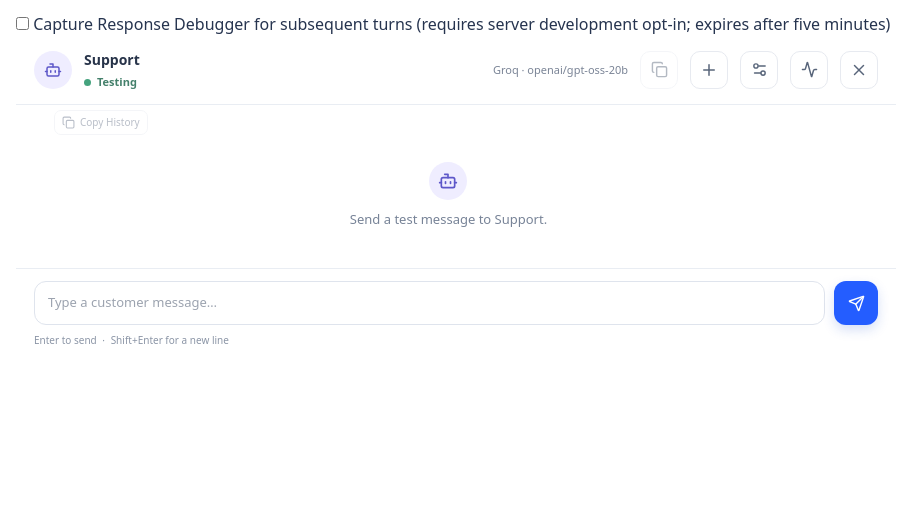
PlaygroundChat › renders trusted AI_GENERATED response provenance
Type "Please help" into the text box named "Message your assistant" at (430, 303), box [34,281,825,325]
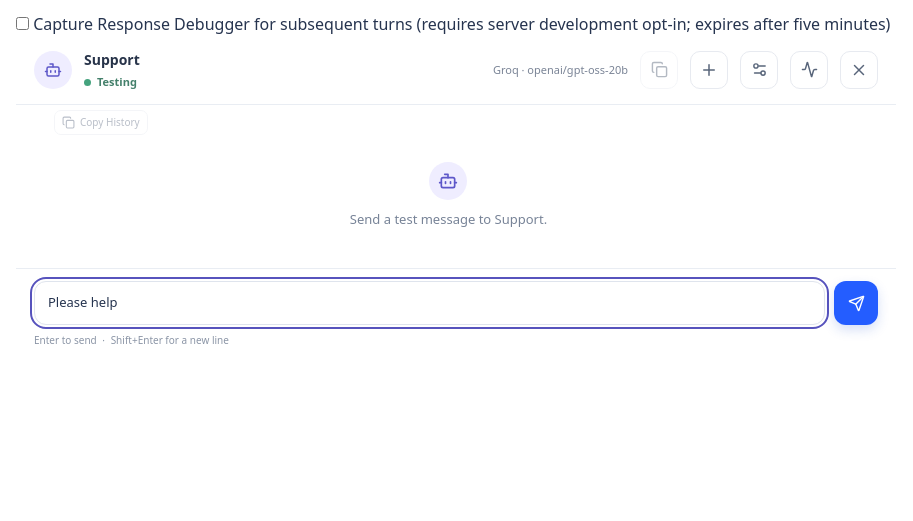
Click the button named "Send message" at (856, 303), box [834,281,878,325]
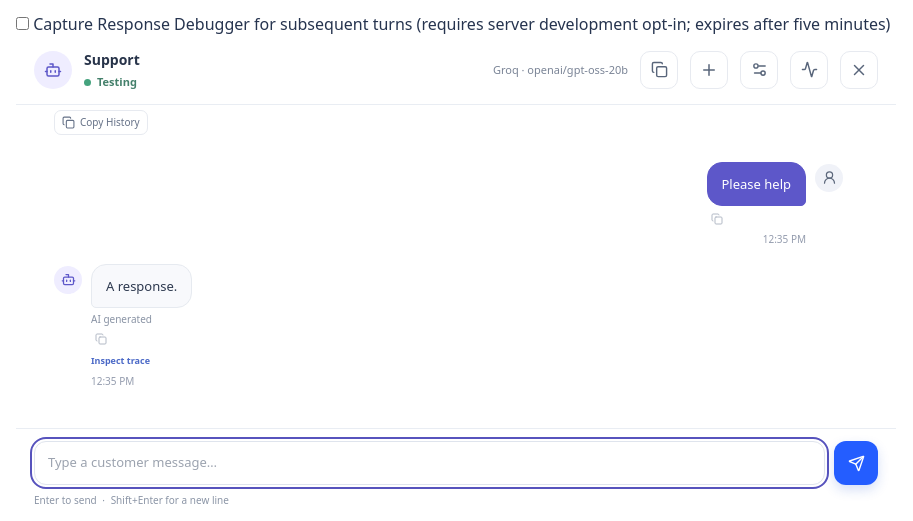
Check: the text "AI generated" is shown, box [91,313,152,326]
